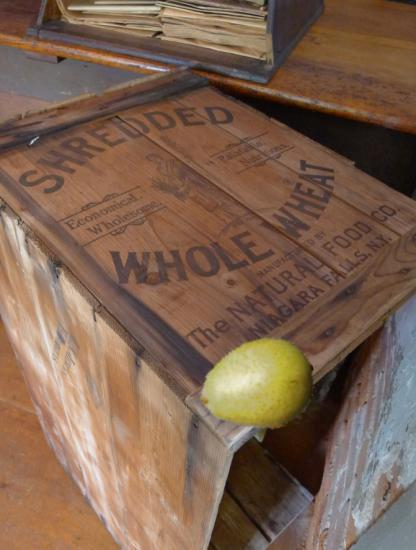Pear: (199, 328, 316, 445)
